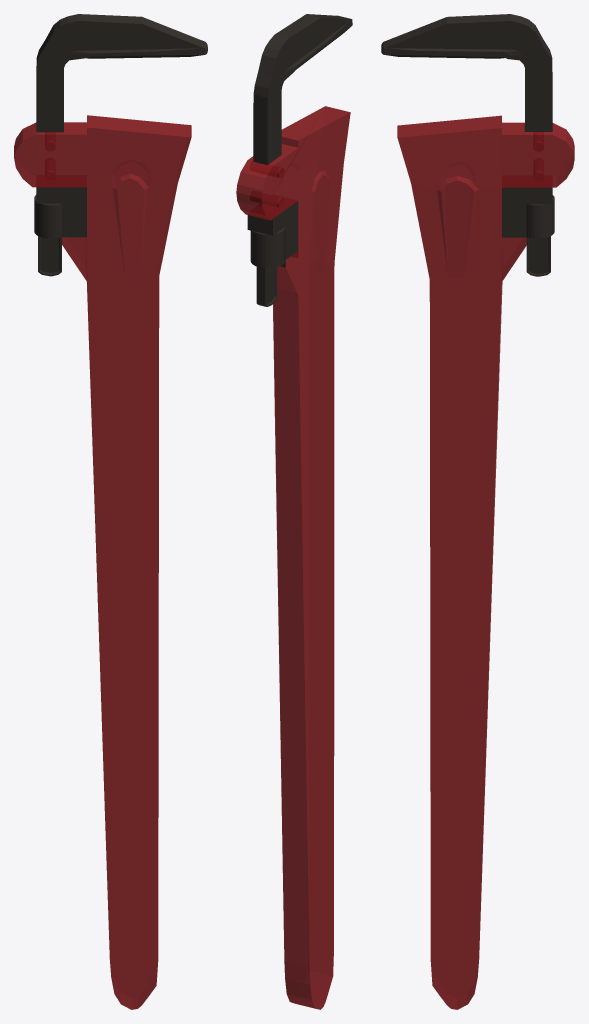
Rendered from ClefMolette.fbx.
3 renders of one model, left to right at view 1: azimuth 90°, elevation 25°; view 2: azimuth 150°, elevation 25°; view 3: azimuth 270°, elevation 25°, orthographic.
Visible parts, largest first — view 1: Manche, Clef; view 2: Manche, Clef; view 3: Manche, Clef.
Part boxes in pixels (<box>): Manche: <box>14,115,191,1009</box>; Clef: <box>34,14,207,276</box>; Manche: <box>236,106,350,1009</box>; Clef: <box>247,14,352,306</box>; Manche: <box>397,115,574,1009</box>; Clef: <box>381,14,554,276</box>.
Size of the model in its own units: 7.97 by 223 by 39.67.
